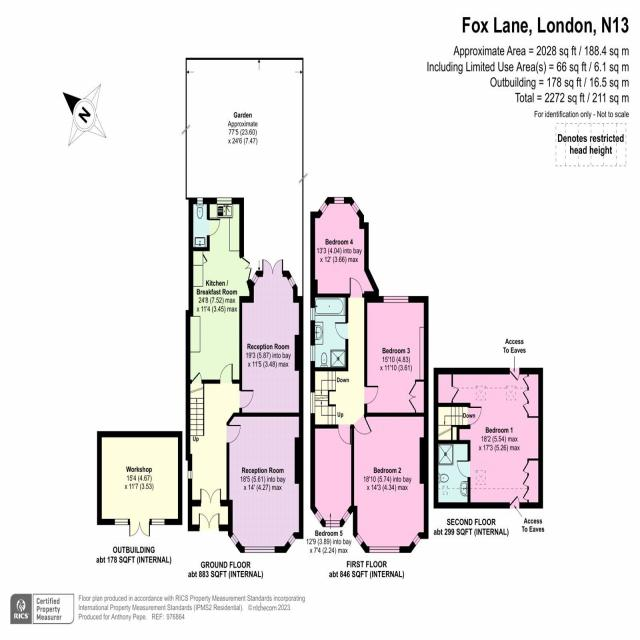DOOR: (353, 414, 372, 435), (364, 384, 379, 405), (240, 256, 252, 282), (467, 406, 482, 426), (226, 424, 241, 444), (239, 389, 254, 409), (349, 277, 363, 298), (219, 363, 233, 384), (338, 424, 351, 445), (334, 321, 348, 340), (207, 218, 221, 236), (457, 460, 470, 478)
DOUBLE DOOR: (198, 512, 220, 531), (262, 258, 284, 277), (200, 488, 221, 506)
ROOM: (433, 367, 543, 509), (185, 197, 254, 384), (351, 412, 429, 554), (226, 412, 304, 554), (239, 258, 304, 417), (364, 295, 429, 417), (310, 196, 379, 303), (310, 424, 355, 528)
WINDOW: (369, 546, 400, 553), (244, 546, 275, 553), (383, 295, 409, 303), (216, 197, 232, 205), (342, 509, 351, 523), (319, 201, 328, 215), (351, 201, 360, 215), (355, 533, 364, 546), (314, 510, 323, 523), (230, 533, 239, 546), (310, 392, 315, 414), (412, 534, 421, 546), (287, 534, 296, 546), (325, 520, 340, 527), (251, 272, 259, 285), (288, 276, 296, 288), (310, 345, 315, 362), (334, 197, 344, 204), (310, 307, 315, 321), (187, 470, 193, 479), (197, 197, 203, 204)
